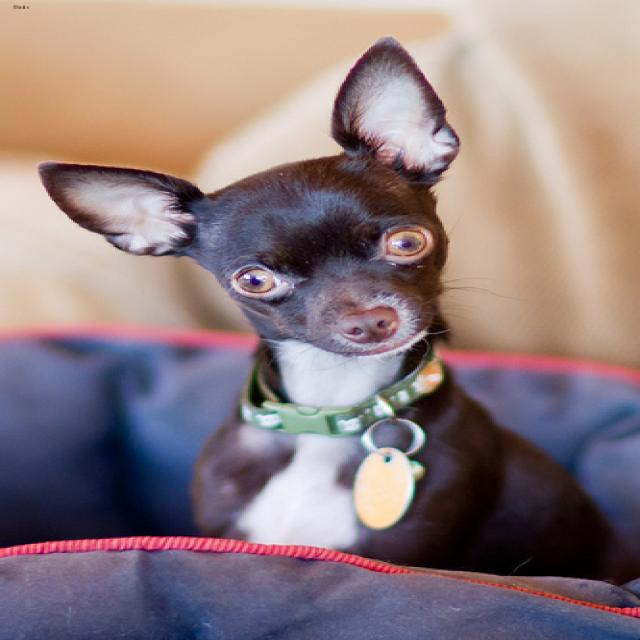dog: (34, 35, 456, 353)
